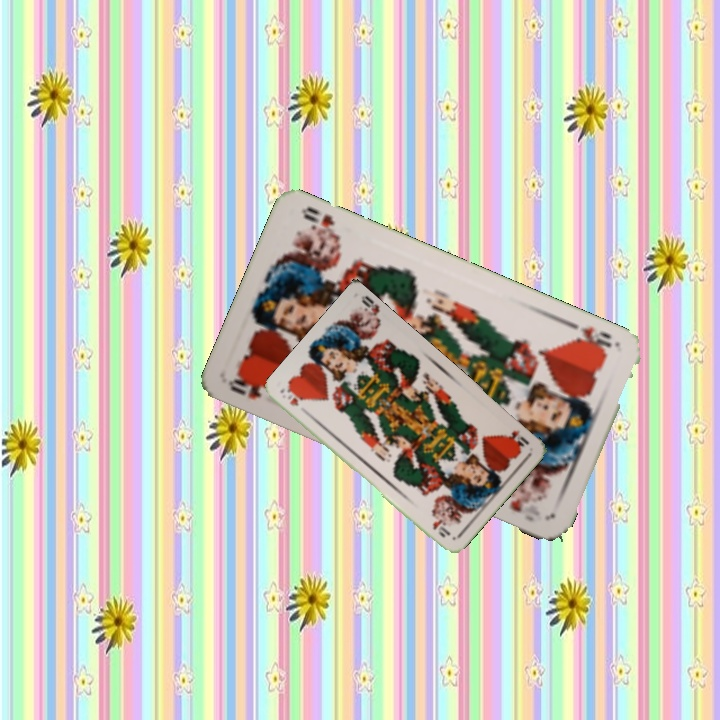HO: (568, 322, 615, 357), (224, 372, 271, 402), (501, 425, 532, 452), (282, 385, 304, 409)
